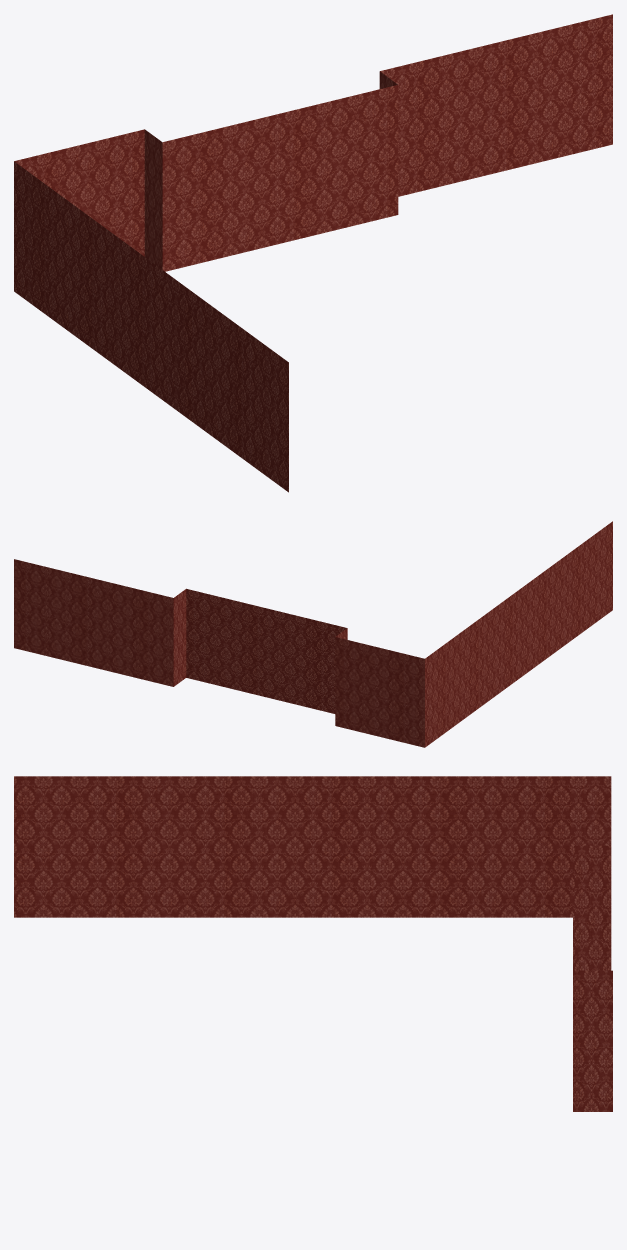
File: Wallpaper.obj
3 views of the same model, one above another, from view 1: azimuth 30°, elevation 25°; view 2: azimuth 150°, elevation 25°; view 3: azimuth 270°, elevation 25° (orthographic). The views are drawn at different scales.
Parts seen in each view (by area): view 1: Wallpaper; view 2: Wallpaper; view 3: Wallpaper.
Boxes of the visible parts, x1=… form: Wallpaper: x1=14, y1=14, x2=612, y2=492; Wallpaper: x1=14, y1=521, x2=612, y2=747; Wallpaper: x1=14, y1=776, x2=612, y2=1111.
Bounding box in the file's own units: 6.34 × 1.31 × 5.05.
